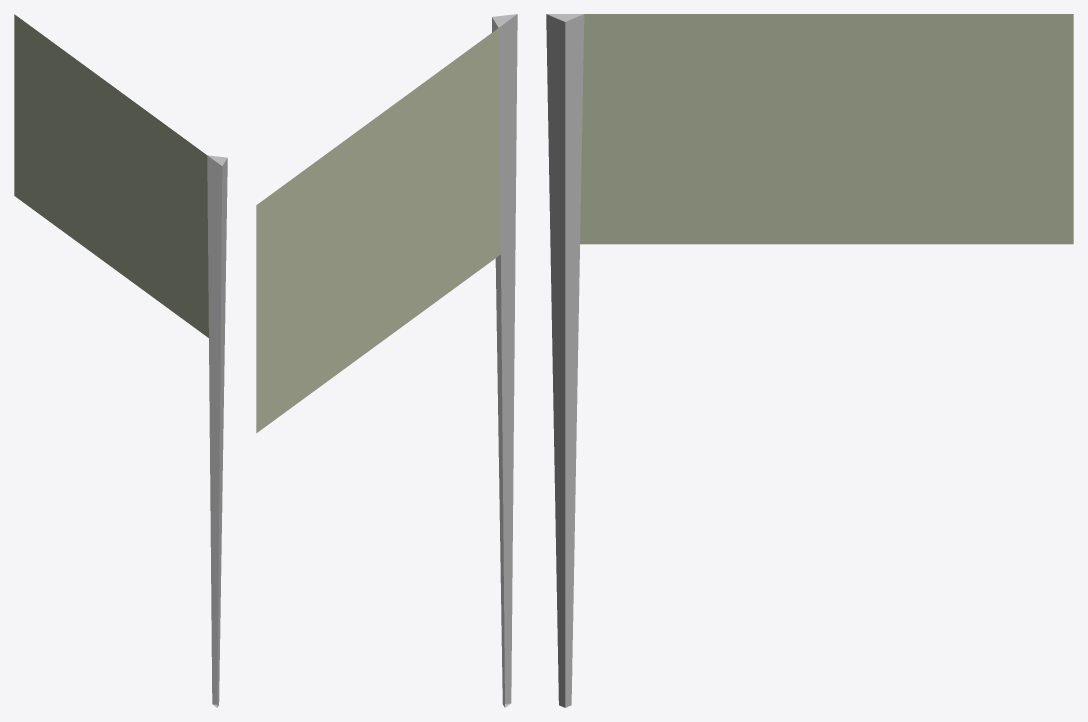
Rendered from flagtest3d.obj.
The picture shows the model from 3 angles, left to right: view 1: azimuth 30°, elevation 25°; view 2: azimuth 150°, elevation 25°; view 3: azimuth 270°, elevation 25°; orthographic projection. The views are drawn at different scales.
Visible parts, largest first — view 1: object_0_default, object_0_object_0_auv; view 2: object_0_default, object_0_object_0_auv; view 3: object_0_default, object_0_object_0_auv.
Part boxes in pixels (<box>): object_0_default: <box>14,14,208,337</box>; object_0_object_0_auv: <box>207,155,227,707</box>; object_0_default: <box>256,28,500,433</box>; object_0_object_0_auv: <box>492,14,517,707</box>; object_0_default: <box>580,14,1073,244</box>; object_0_object_0_auv: <box>546,14,584,707</box>.
Bounding box in the file's own units: 0.075 × 3 × 2.08.
